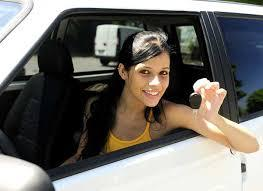Awake: (105, 27, 183, 115)
